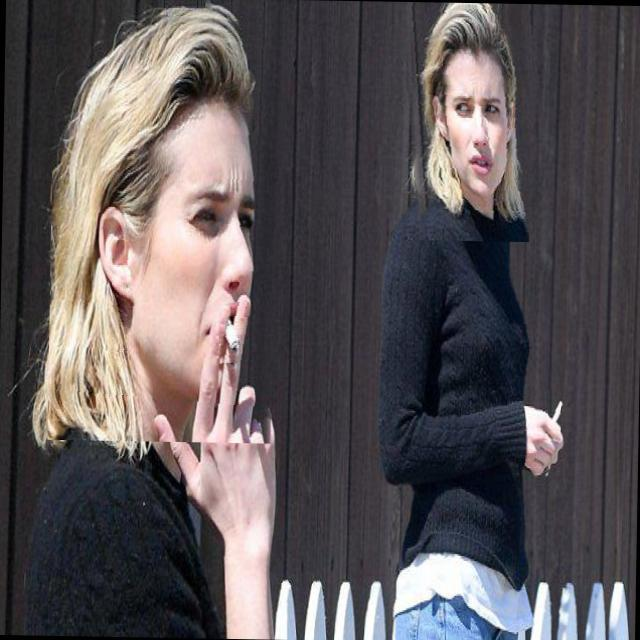cigarette: (219, 301, 250, 364), (536, 376, 562, 440)
